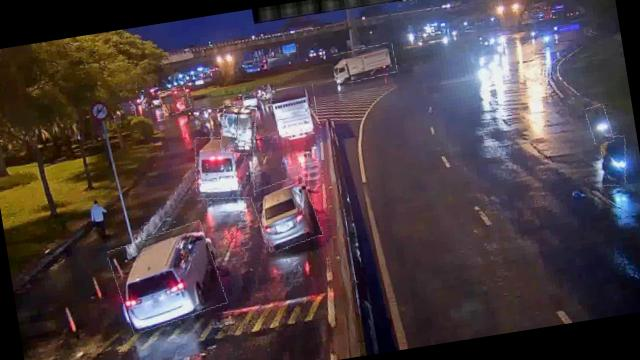Bike: (596, 133, 630, 186), (585, 103, 613, 146)
Bus: (190, 130, 260, 203), (158, 85, 190, 115)
Car: (108, 222, 226, 332), (252, 175, 322, 252)
Truck: (269, 84, 321, 142), (332, 43, 398, 84), (217, 102, 261, 156)
